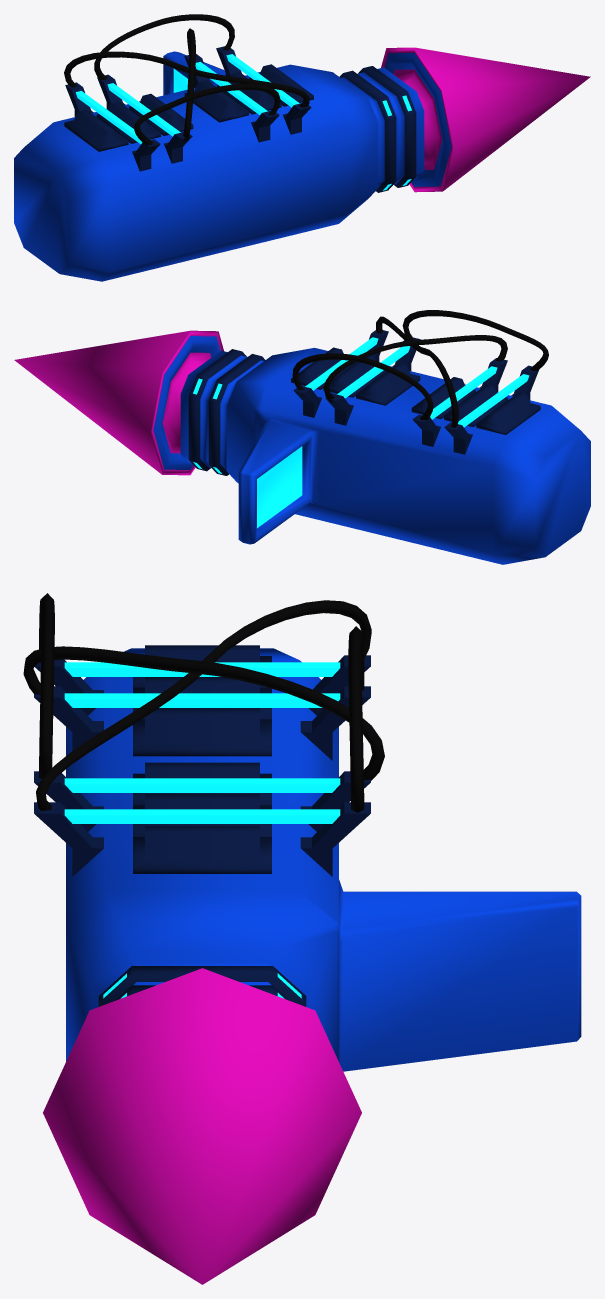
File: drillTier3.fbx
The picture shows the model from 3 angles, top to bottom: view 1: azimuth 30°, elevation 25°; view 2: azimuth 150°, elevation 25°; view 3: azimuth 270°, elevation 25°; orthographic projection. The views are drawn at different scales.
Parts seen in each view (by area): view 1: drillT3Body, drillT3; view 2: drillT3Body, drillT3; view 3: drillT3Body, drillT3.
Part boxes in pixels (x1,y1,x2,y2): drillT3Body: (14, 14, 424, 281); drillT3: (381, 47, 590, 192); drillT3Body: (180, 310, 590, 564); drillT3: (14, 330, 223, 475); drillT3Body: (23, 593, 581, 1071); drillT3: (43, 968, 361, 1284).
Size of the model in its own units: 114 by 39.38 by 50.36.
